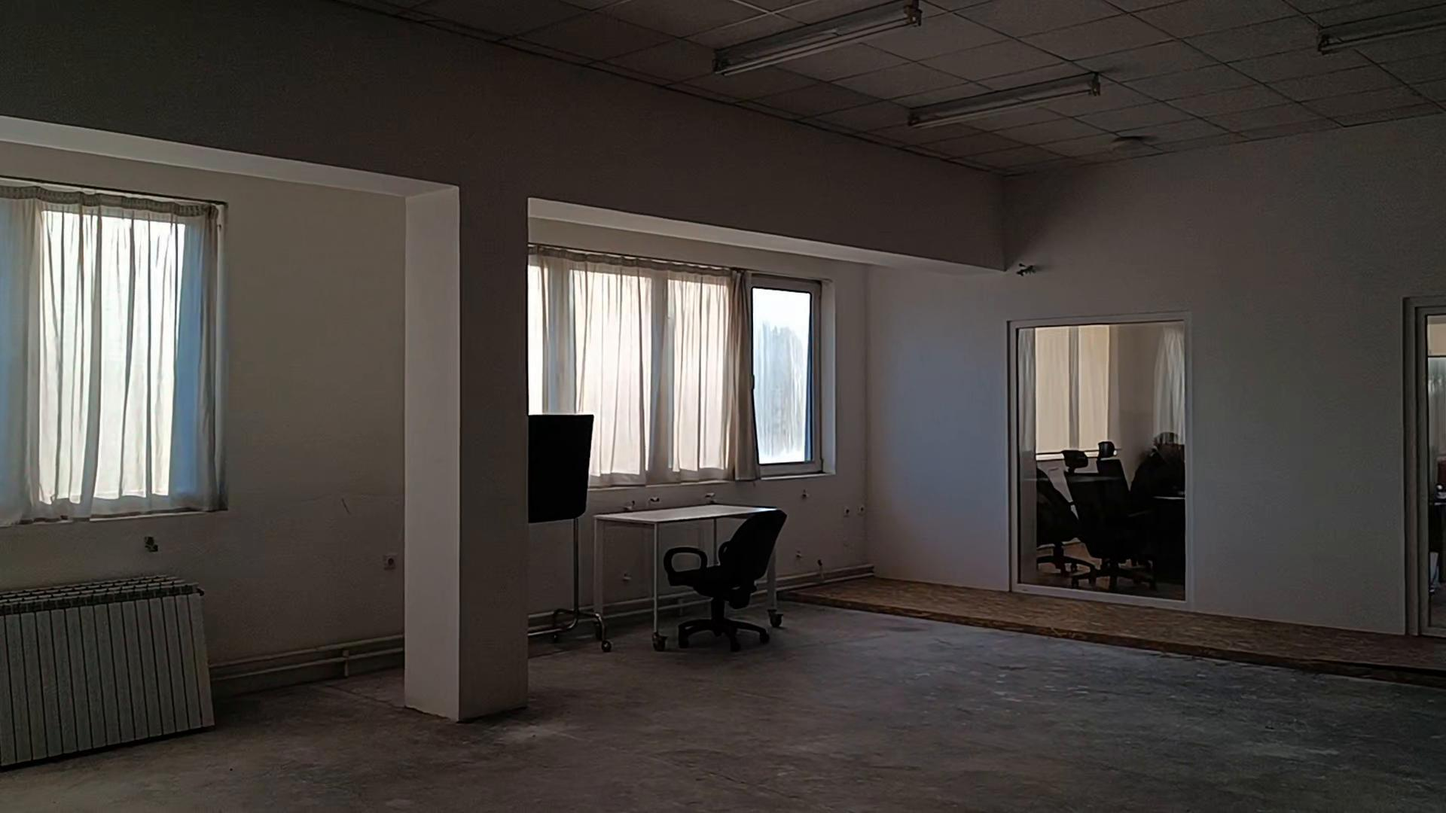ceiling: (343, 0, 1445, 174)
floor: (0, 605, 1445, 812)
wall: (0, 9, 1443, 660), (50, 8, 959, 164), (403, 185, 529, 720)
